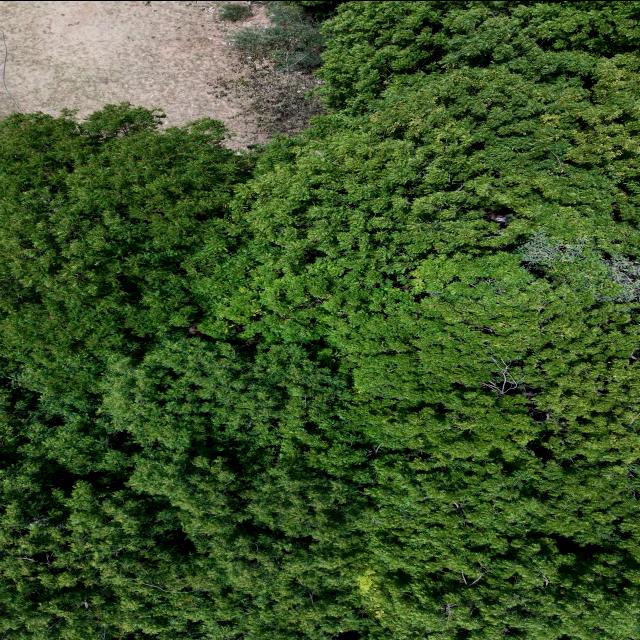DRY_AREA: (0, 1, 261, 147)
VEGETATION_TREE: (0, 1, 639, 639), (211, 1, 334, 136), (218, 3, 254, 21)
